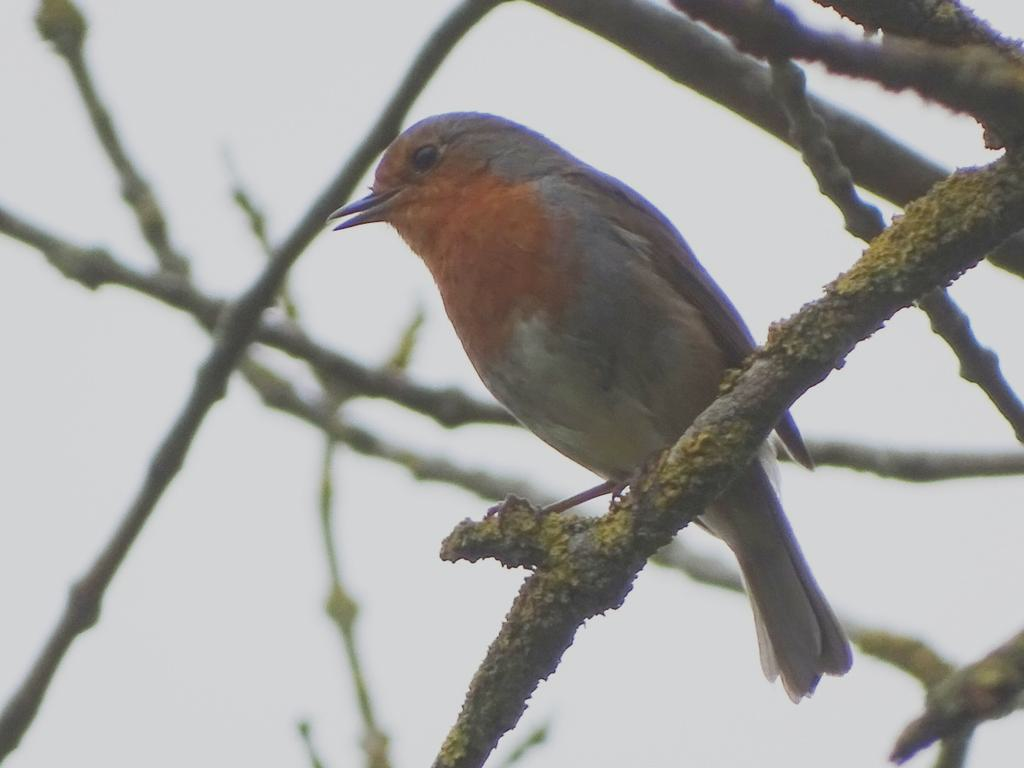ErithacusRubecula: (325, 110, 853, 704)
